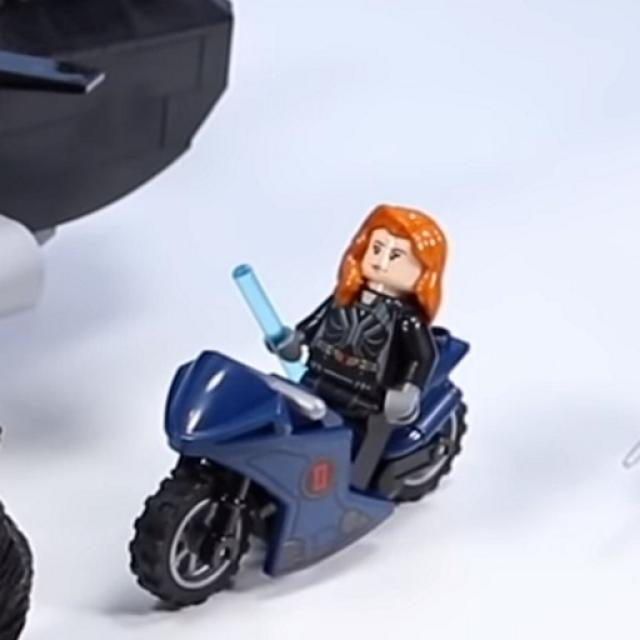Lego-Minifigures: (268, 193, 442, 501)
